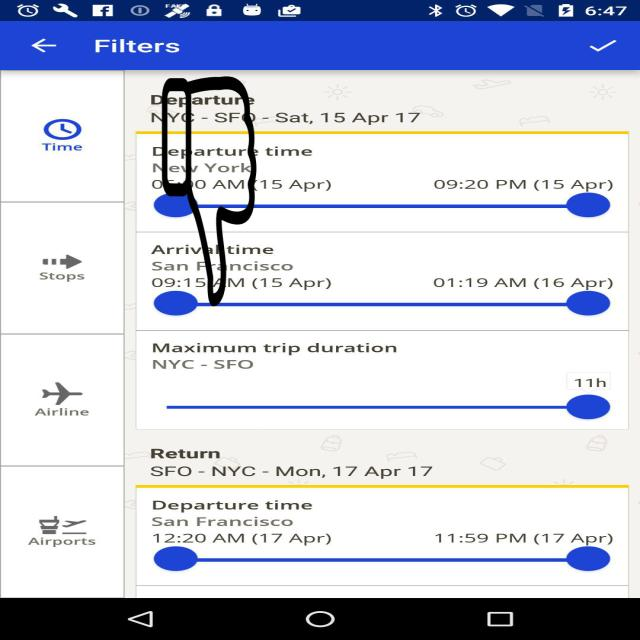obstruction: (160, 76, 258, 306)
